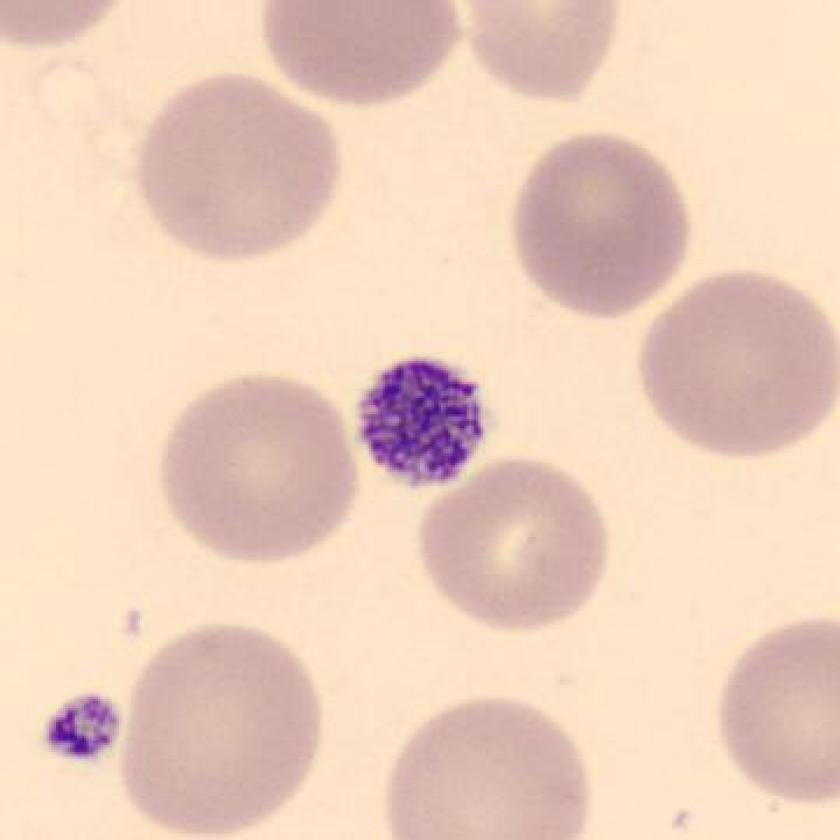platelets: (354, 358, 494, 497), (36, 691, 120, 772)
